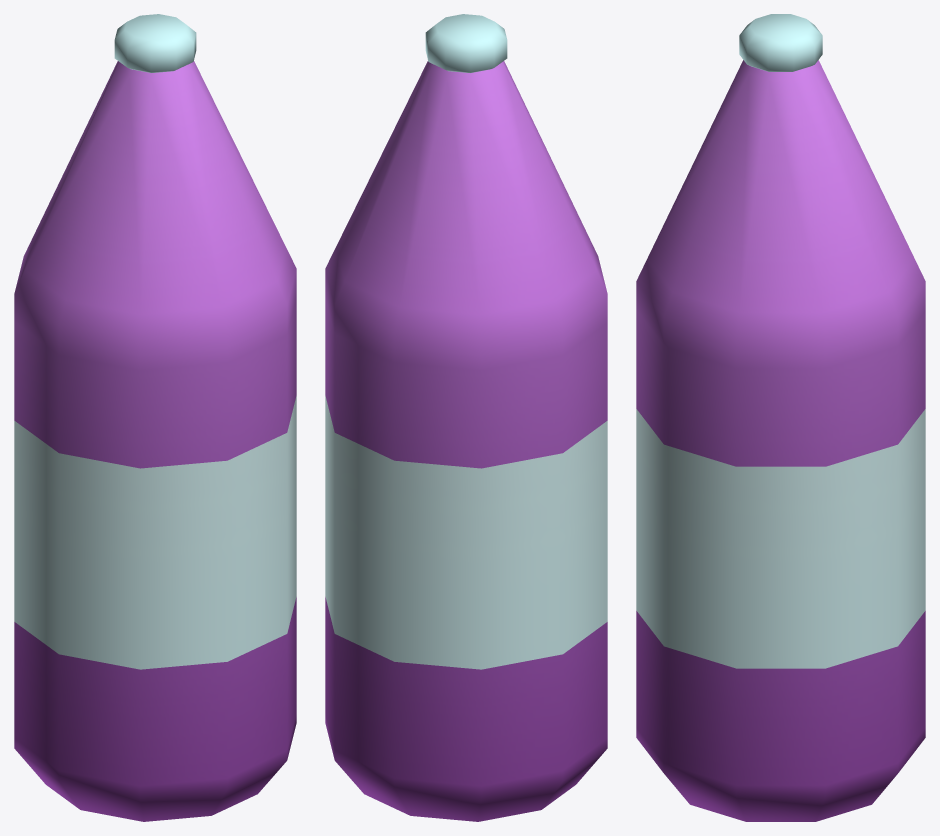
The model's file is cleaning_bottle_purple.fbx.
3 views of the same model, side by side, from view 1: azimuth 30°, elevation 25°; view 2: azimuth 150°, elevation 25°; view 3: azimuth 270°, elevation 25° (orthographic).
Parts seen in each view (by area): view 1: cleaning_bottle_purple; view 2: cleaning_bottle_purple; view 3: cleaning_bottle_purple.
Boxes of the visible parts, bbox=[...] form: cleaning_bottle_purple: bbox=[14, 14, 296, 821]; cleaning_bottle_purple: bbox=[325, 14, 607, 821]; cleaning_bottle_purple: bbox=[636, 14, 925, 821].
Size of the model in its own units: 113 by 340 by 119.
